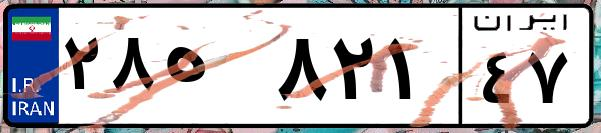1: (385, 28, 445, 110)
2: (330, 28, 385, 110), (57, 26, 110, 100)
4: (475, 38, 525, 113)
7: (525, 38, 570, 115)
8: (270, 28, 330, 110), (110, 28, 158, 98)
ه: (158, 20, 270, 120)
